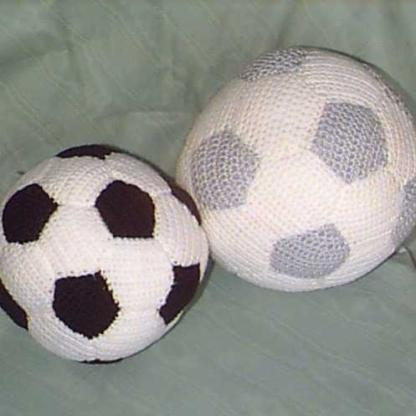ball: (179, 46, 416, 294), (0, 144, 209, 364)
